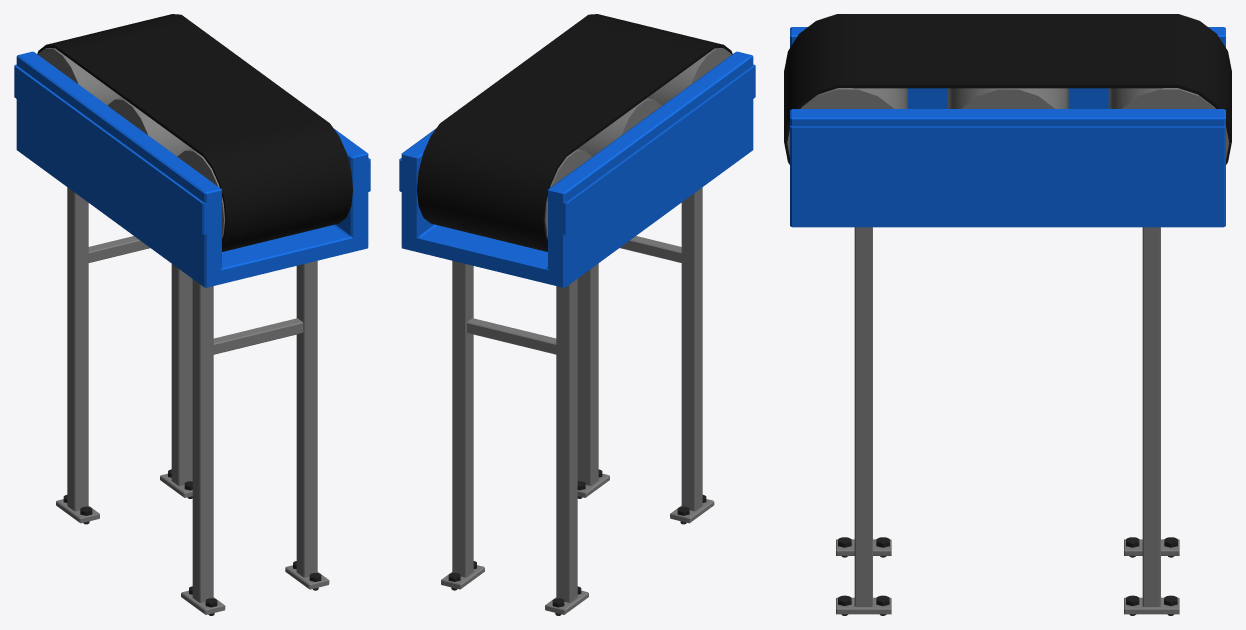
The model's file is conveyor-1x2.fbx.
The picture shows the model from 3 angles, left to right: view 1: azimuth 30°, elevation 25°; view 2: azimuth 150°, elevation 25°; view 3: azimuth 270°, elevation 25°; orthographic projection. The views are drawn at different scales.
Visible parts, largest first — view 1: belt, case, 2m support, 2m support.001, roller.001, roller.002, roller; view 2: belt, case, 2m support.001, 2m support, roller.001, roller, roller.002; view 3: case, belt, 2m support, 2m support.001, roller.001, roller.002, roller.
Part boxes in pixels (x1,y1,x2,y2): belt: [37, 14, 352, 251]; case: [14, 51, 370, 287]; 2m support: [181, 260, 329, 614]; 2m support.001: [56, 187, 192, 523]; roller.001: [107, 97, 191, 156]; roller.002: [38, 48, 121, 105]; roller: [177, 149, 225, 238]; belt: [417, 14, 732, 251]; case: [399, 51, 755, 287]; 2m support.001: [441, 261, 588, 614]; 2m support: [577, 187, 714, 523]; roller.001: [578, 98, 661, 156]; roller: [647, 48, 731, 105]; roller.002: [417, 149, 591, 239]; case: [790, 27, 1225, 227]; belt: [784, 14, 1231, 164]; 2m support: [836, 227, 891, 614]; 2m support.001: [1124, 227, 1179, 614]; roller.001: [948, 88, 1068, 108]; roller.002: [1108, 88, 1229, 158]; roller: [787, 88, 907, 156].
Size of the model in its own units: 103 by 271 by 205.
